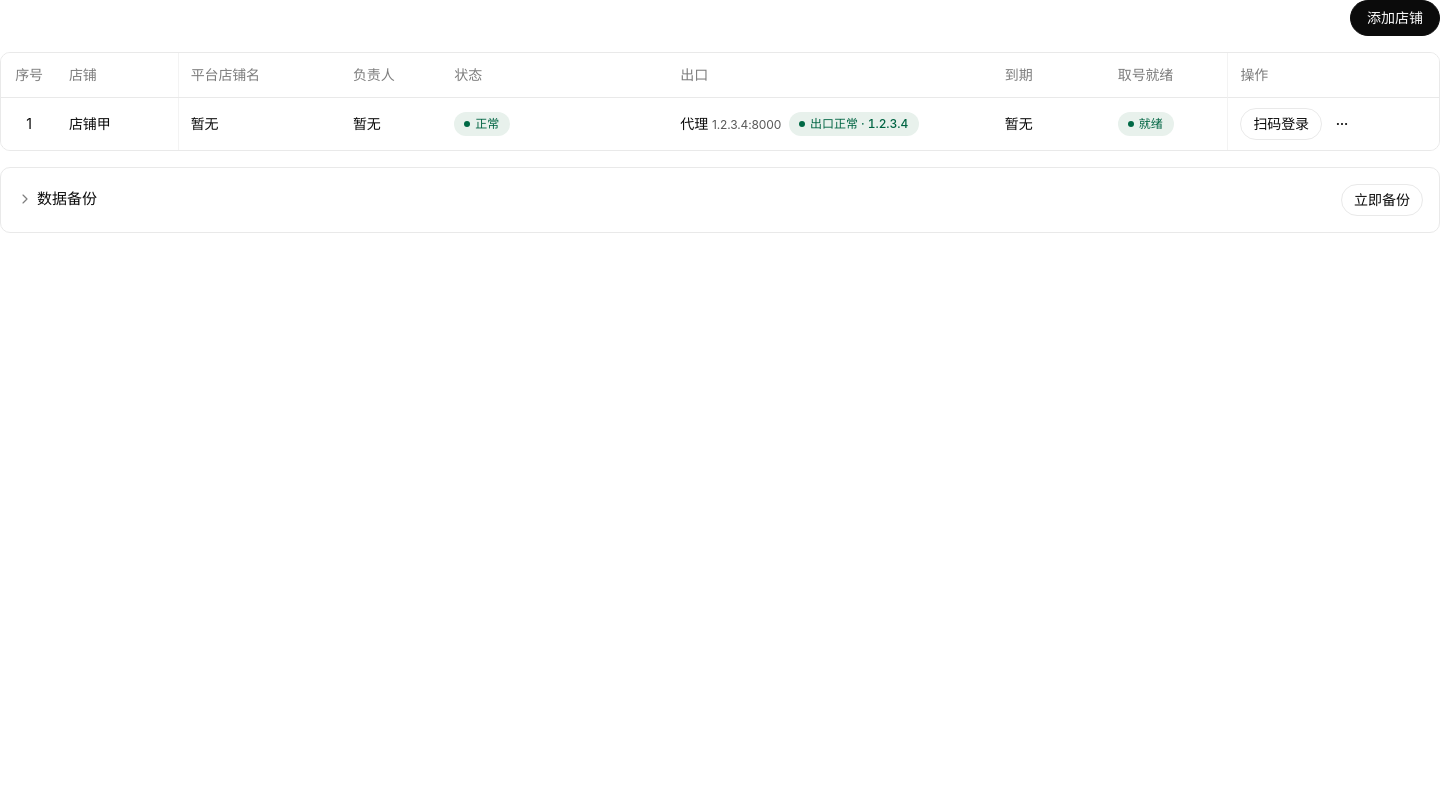
Test: 店铺字段展示与编辑 › 编辑店铺：标题下写店铺名，卡号尾号与店铺ID不合规时就地报错、不发请求
Later steps or results of the test are not shown.
Click the button named "更多操作".
click(1342, 124)  # box left=1326, top=108, right=1358, bottom=140
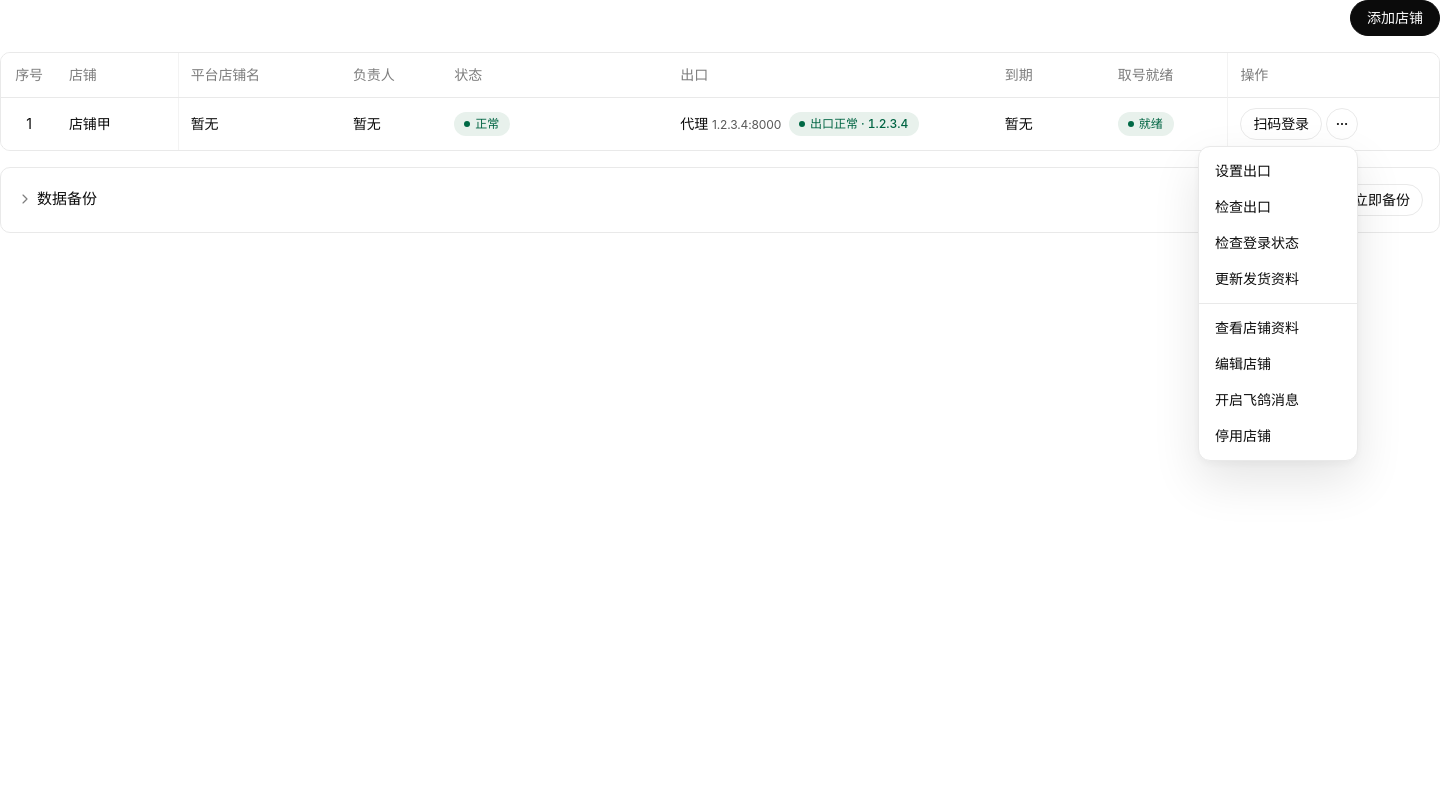
Click the menu item "编辑店铺".
click(1243, 364)  # box left=1215, top=355, right=1271, bottom=372
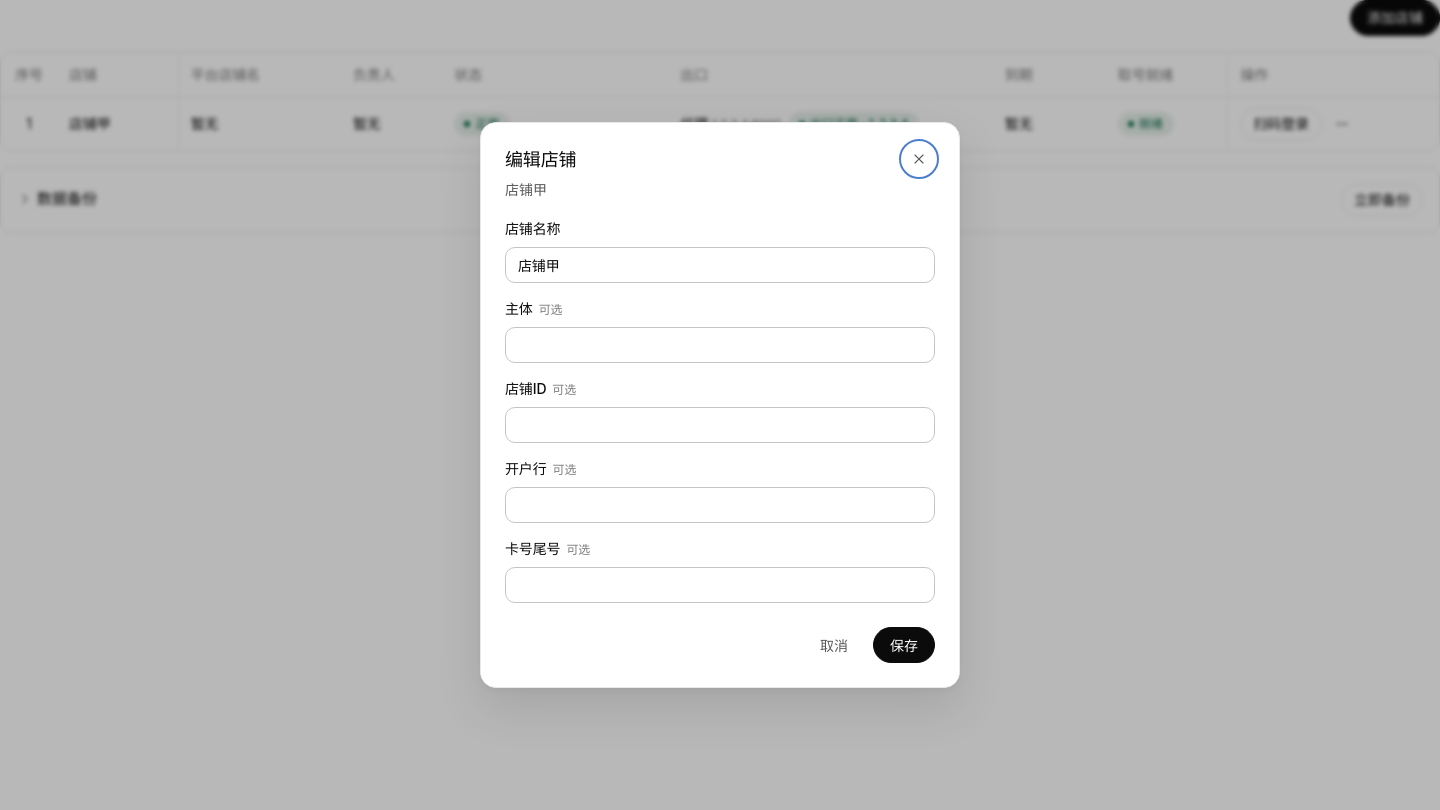
Check: the text "店铺甲" is shown, box left=505, top=181, right=547, bottom=198
Check: the button "取消" is shown, box left=803, top=627, right=865, bottom=663
Type "1a2" into the field labelled "卡号尾号".
click(720, 585); type("1a2")  # box left=505, top=567, right=935, bottom=603
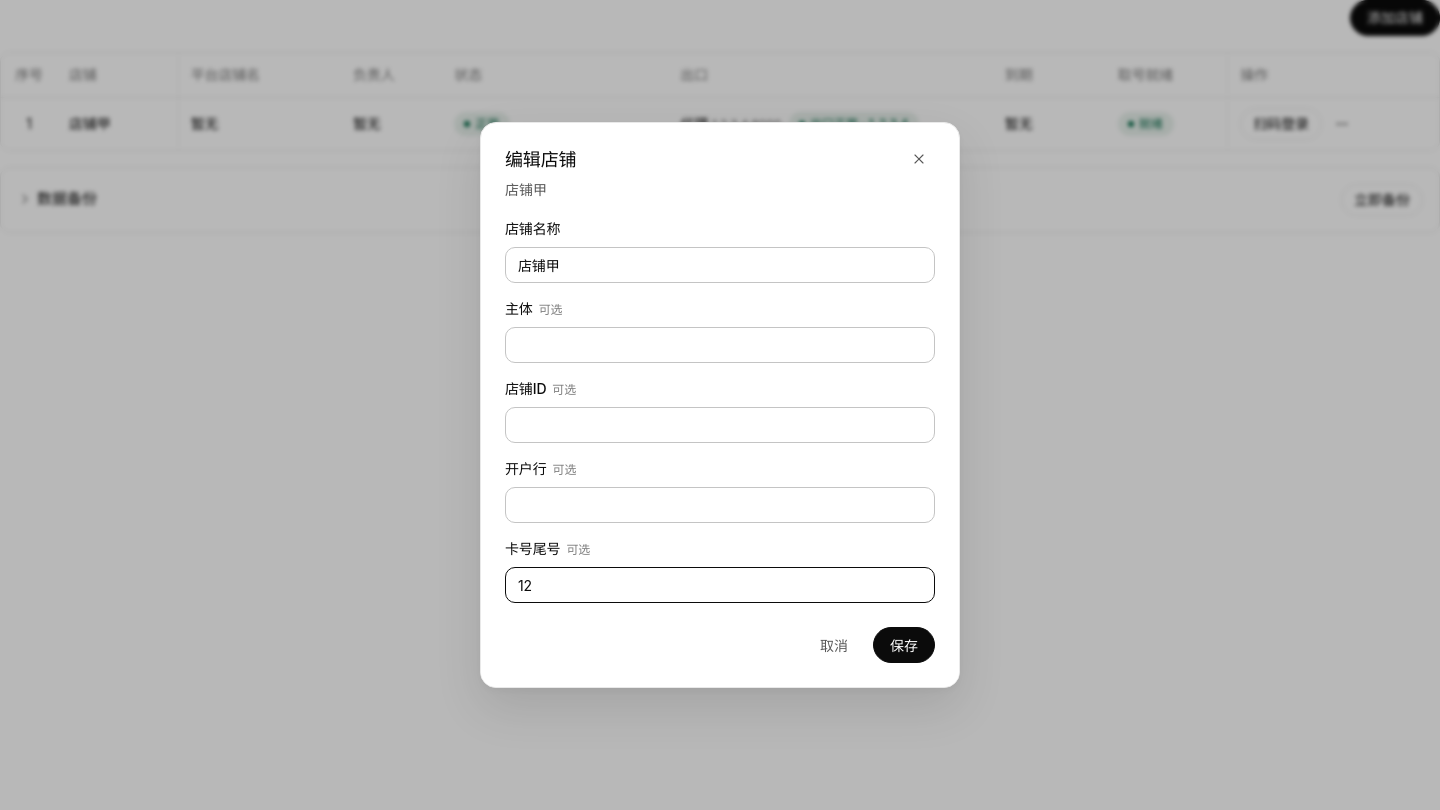
Check: the field labelled "卡号尾号" holds "12", box left=505, top=567, right=935, bottom=603
